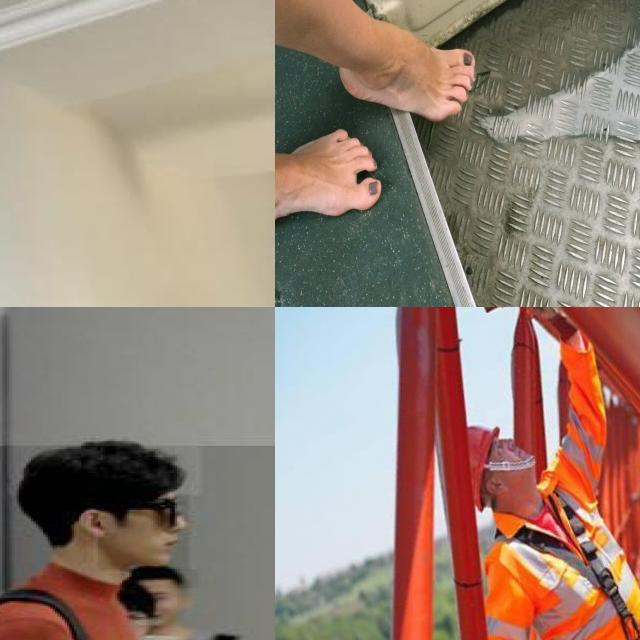Barefoots: (339, 29, 477, 121), (275, 129, 382, 239)
Harness: (516, 495, 640, 640)
No_Ear-Protection: (74, 506, 112, 540)
face_nomask: (98, 494, 189, 570), (127, 588, 184, 628)
head_nohelmet: (7, 446, 201, 495), (120, 569, 198, 588)
person: (0, 445, 275, 640)
